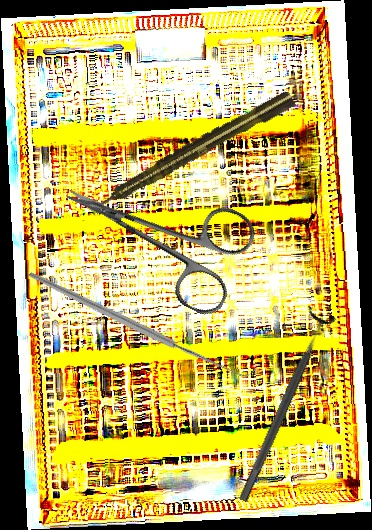Fixation Ring: (227, 305, 338, 507)
Handpiece: (88, 88, 297, 217)
Hook Surgical: (27, 198, 257, 447)
Iris Scissors: (45, 141, 263, 321)
